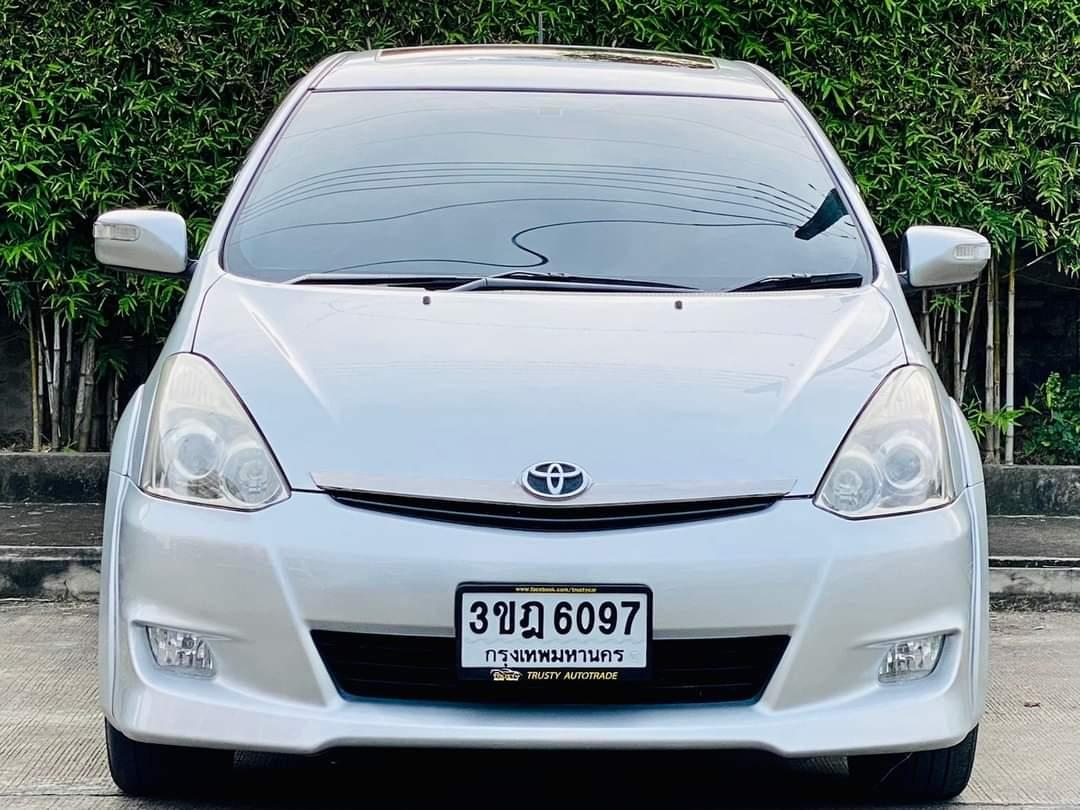license-plate: (454, 578, 657, 689)
